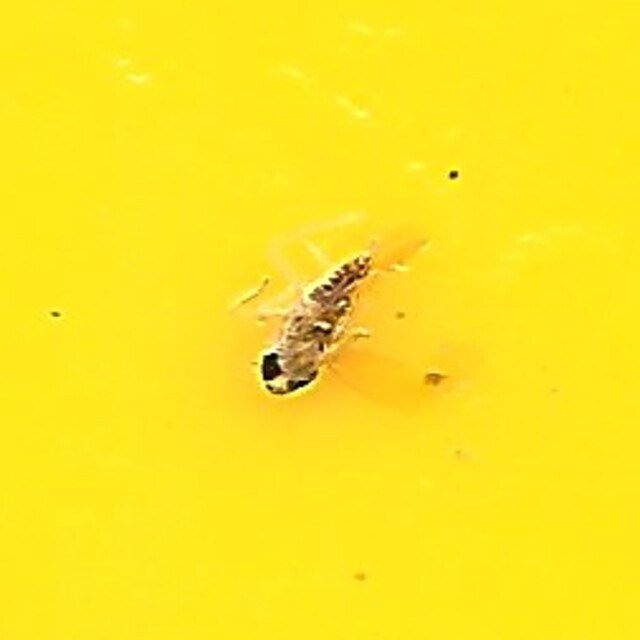Hemiptera: (253, 228, 387, 412)
